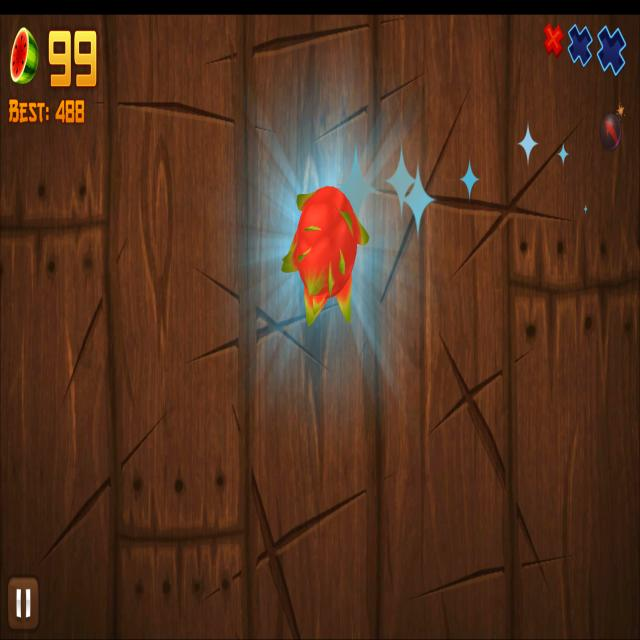fruit: (284, 187, 369, 326)
